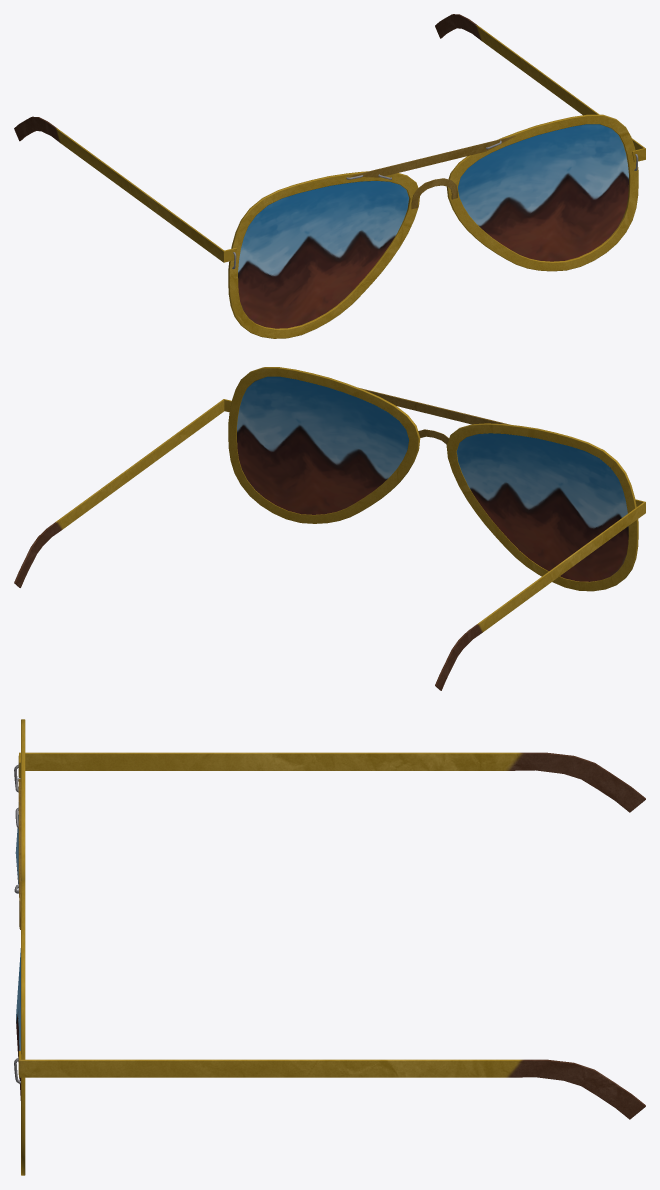
The model's file is sunglasses.glb.
3 renders of one model, top to bottom at view 1: azimuth 30°, elevation 25°; view 2: azimuth 150°, elevation 25°; view 3: azimuth 270°, elevation 25°, orthographic. The views are drawn at different scales.
Visible parts, largest first — view 1: Aviator_Glasses.1; view 2: Aviator_Glasses.1; view 3: Aviator_Glasses.1.
Part boxes in pixels (<box>): Aviator_Glasses.1: <box>14,14,645,338</box>; Aviator_Glasses.1: <box>14,367,645,690</box>; Aviator_Glasses.1: <box>14,719,645,1175</box>.
Size of the model in its own units: 0.1001 by 0.0344 by 0.0867.
Materials: 1 (1 with a texture image).
